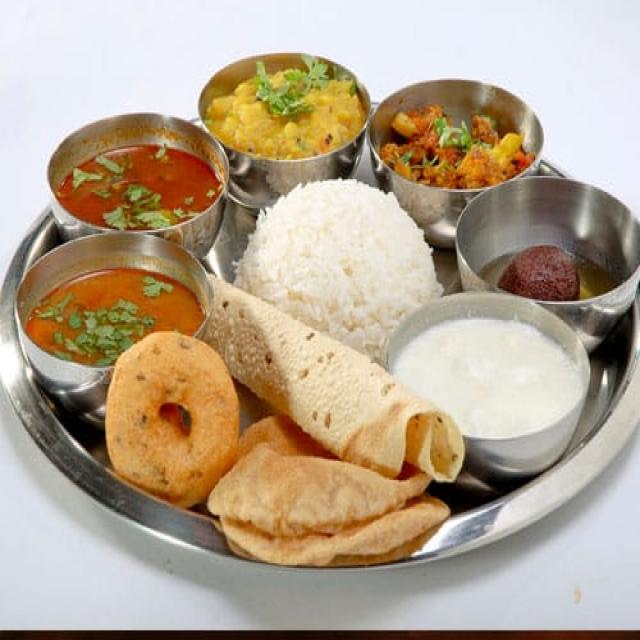veg meals: (0, 40, 640, 581)
